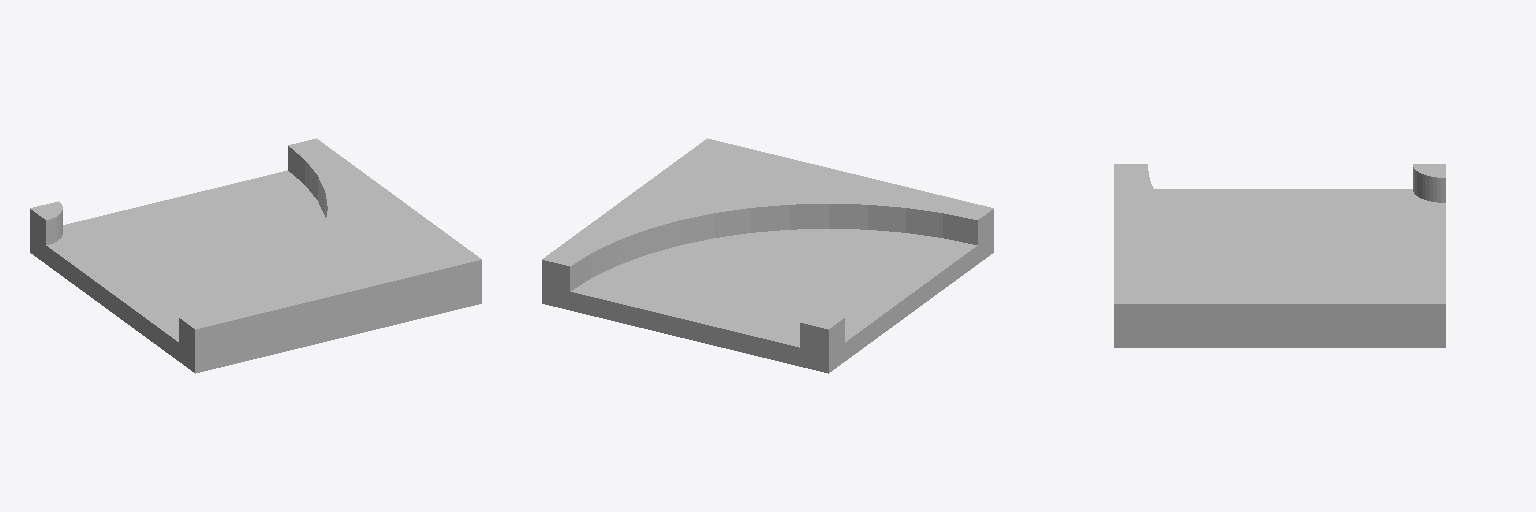
File: roundCornerB.obj
3 views of the same model, side by side, from view 1: azimuth 30°, elevation 25°; view 2: azimuth 150°, elevation 25°; view 3: azimuth 270°, elevation 25° (orthographic).
Parts seen in each view (by area): view 1: roundCornerB; view 2: roundCornerB; view 3: roundCornerB.
Boxes of the visible parts, x1,y1,x2,y2 form: roundCornerB: [30, 138, 481, 373]; roundCornerB: [542, 138, 993, 373]; roundCornerB: [1114, 164, 1445, 347].
Bounding box in the file's own units: 0.9999 × 0.1467 × 0.9999.